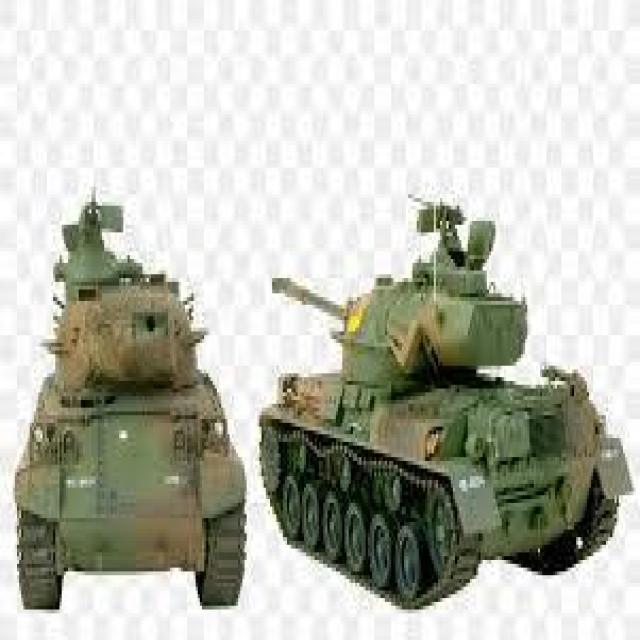Tanks: (256, 141, 624, 617), (19, 132, 249, 612)
